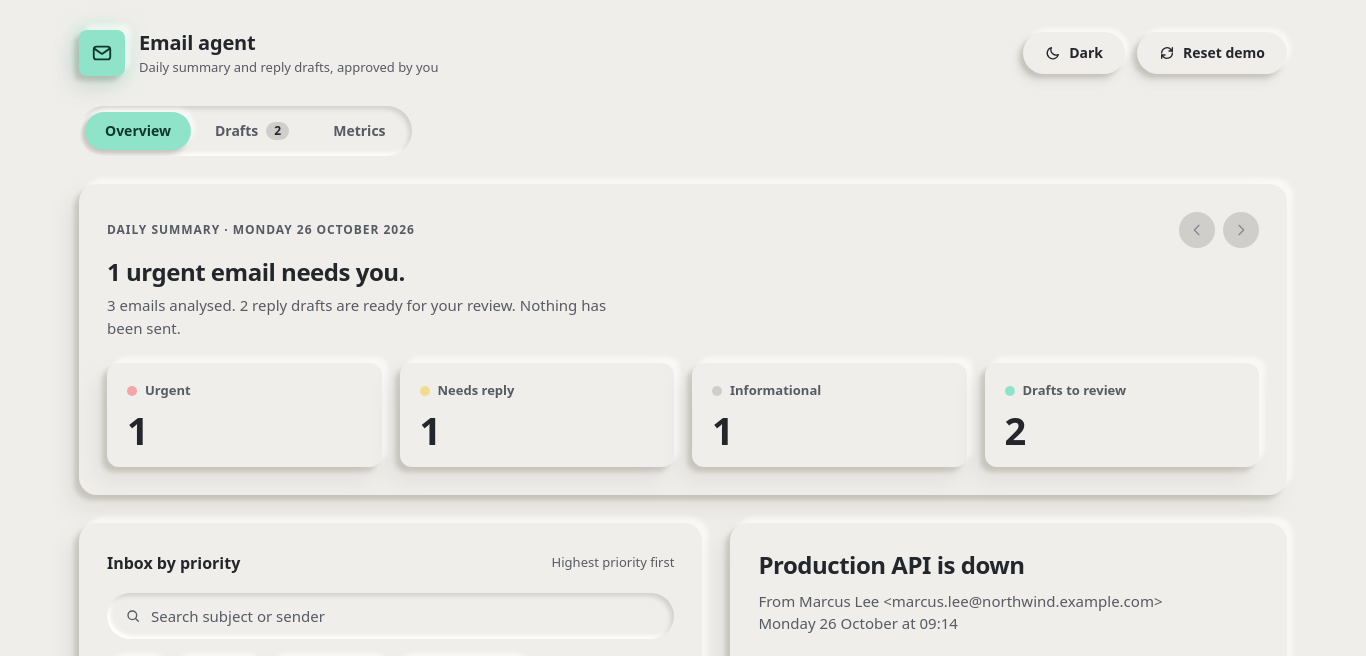
Test case: App › resets the demo and tells how many emails were loaded
Step 1. Click the button "Reset demo" → (1212, 53), box [1137,32,1287,74]
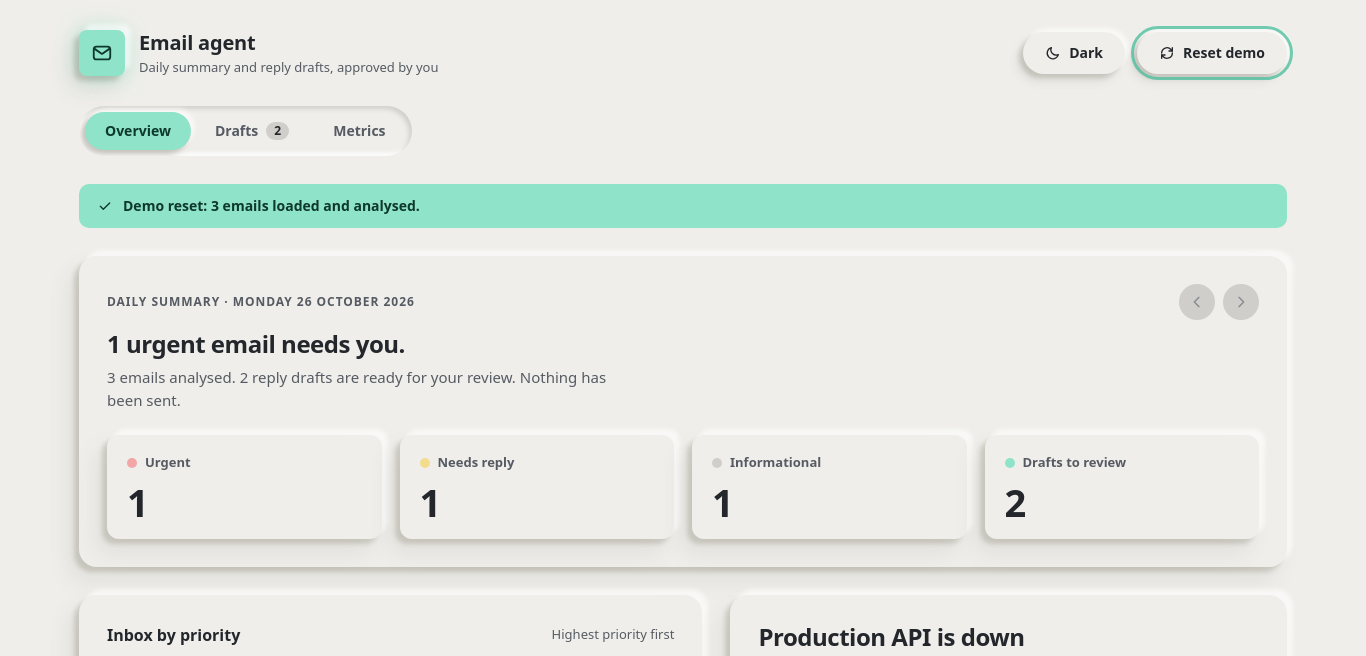
Check: the text "Demo reset: 3 emails loaded and analysed." is shown, box [79,184,1287,228]
